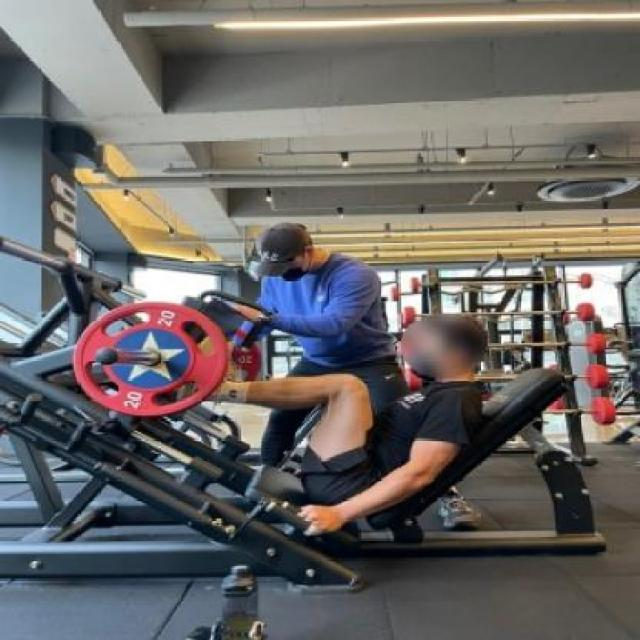leg press: (0, 181, 617, 640)
